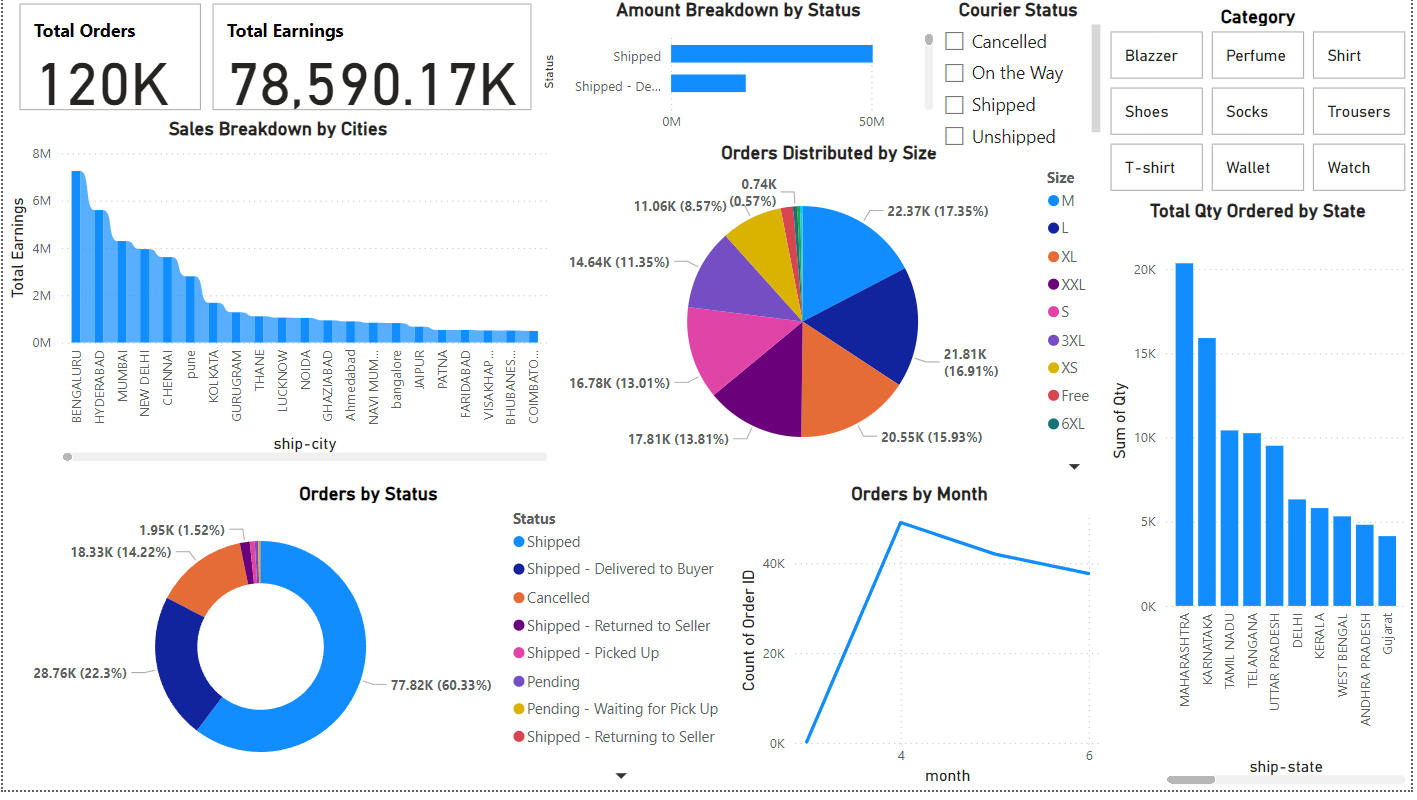

What the dashboard file says about the page in this screenshot:
{"tool":"powerbi","page":{"name":"Page 1","canvas":[1280,720],"ordinal":0},"visuals":[{"type":"cardVisual","fields":{"Data":["Amazon Sale Report.Total Orders"]},"box":[10,0,175.2,107.5],"z":0},{"type":"donutChart","title":"Orders by Status","fields":{"Category":["Amazon Sale Report.Status"],"Y":["CountNonNull(Amazon Sale Report.Order ID)"]},"box":[0,439.6,664.3,280.1],"z":1000},{"type":"lineChart","title":"Orders by Month","fields":{"Category":["Amazon Sale Report.month"],"Y":["CountNonNull(Amazon Sale Report.Order ID)"]},"box":[664.3,439.6,337.5,280.1],"z":2000},{"type":"clusteredColumnChart","title":"Total Qty Ordered by State","fields":{"Category":["Amazon Sale Report.ship-state"],"Y":["Sum(Amazon Sale Report.Qty)"]},"box":[1001.8,182.9,278.2,536.9],"z":3000},{"type":"cardVisual","fields":{"Data":["Amazon Sale Report.Total Earnings"]},"box":[185.4,0,300.9,107.5],"z":4000},{"type":"advancedSlicerVisual","fields":{"Values":["Amazon Sale Report.Category"]},"box":[1001.8,6.8,278.2,176],"z":5000},{"type":"pieChart","title":"Orders Distributed by Size","fields":{"Category":["Amazon Sale Report.Size"],"Y":["CountNonNull(Amazon Sale Report.Order ID)"]},"box":[499.9,130.3,501.9,309.3],"z":6000},{"type":"slicer","title":"Courier Status","fields":{"Values":["Amazon Sale Report.Courier Status"]},"box":[843.6,0,158.5,138.8],"z":7000},{"type":"ribbonChart","title":"Sales Breakdown by Cities","fields":{"Y":["Amazon Sale Report.Total Earnings"],"Category":["Amazon Sale Report.ship-city"]},"box":[0,108,499.9,318.1],"z":8000},{"type":"barChart","title":"Amount Breakdown by Status","fields":{"Category":["Amazon Sale Report.Status"],"Y":["Sum(Amazon Sale Report.Amount)"]},"box":[486.3,0,364.5,130.7],"z":9000}]}

Visuals, with their boxes in screenshot pixels (x1, y1, x2, y2), scaled from the page's 1280x720 canvas onto the 1417x800 screenshot:
cardVisual - Amazon Sale Report.Total Orders: 11:0:205:119
"Orders by Status" donutChart: 0:488:735:799
"Orders by Month" lineChart: 735:488:1109:799
"Total Qty Ordered by State" clusteredColumnChart: 1109:203:1416:799
cardVisual - Amazon Sale Report.Total Earnings: 205:0:538:119
advancedSlicerVisual - Amazon Sale Report.Category: 1109:8:1416:203
"Orders Distributed by Size" pieChart: 553:145:1109:488
"Courier Status" slicer: 934:0:1109:154
"Sales Breakdown by Cities" ribbonChart: 0:120:553:473
"Amount Breakdown by Status" barChart: 538:0:942:145
